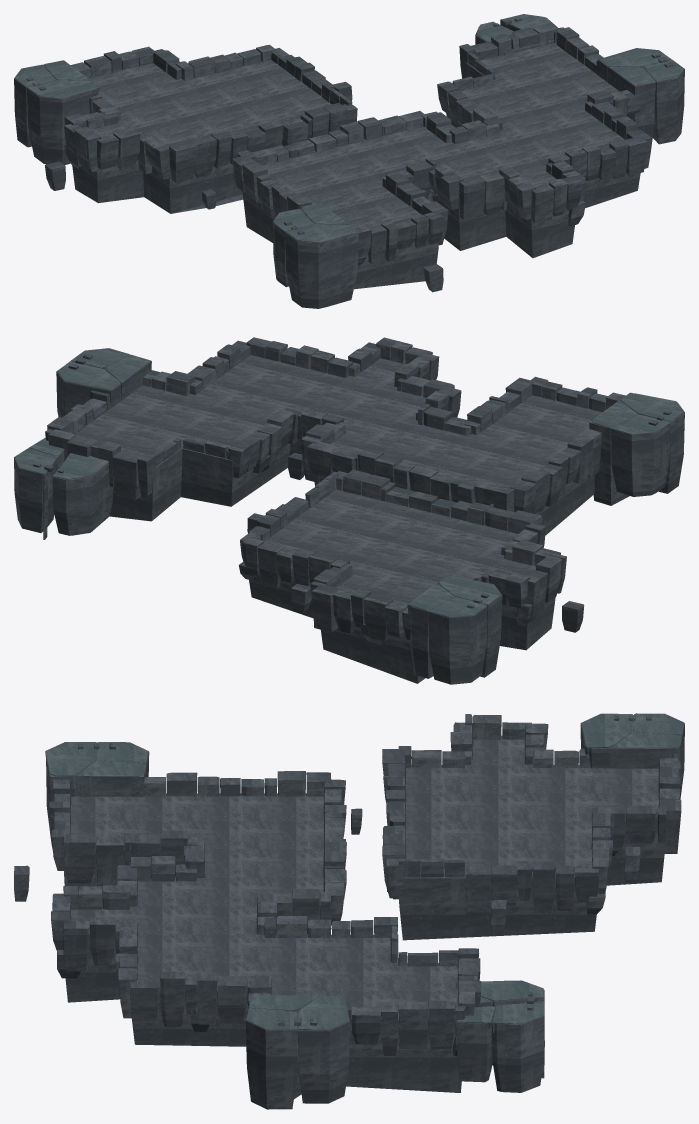
The model's file is chapter2_stage22_geology.glb.
3 views of the same model, one above another, from view 1: azimuth 30°, elevation 25°; view 2: azimuth 150°, elevation 25°; view 3: azimuth 270°, elevation 25° (orthographic). The views are drawn at different scales.
Visible parts, largest first — view 1: stage22_continuous_rock_strata; view 2: stage22_continuous_rock_strata; view 3: stage22_continuous_rock_strata.
Part boxes in pixels (x1,y1,x2,y2): stage22_continuous_rock_strata: [14, 14, 684, 308]; stage22_continuous_rock_strata: [14, 337, 684, 684]; stage22_continuous_rock_strata: [14, 713, 684, 1109].
Bounding box in the file's own units: 11.87 × 1.67 × 10.02.
2 materials, 2 textured.
